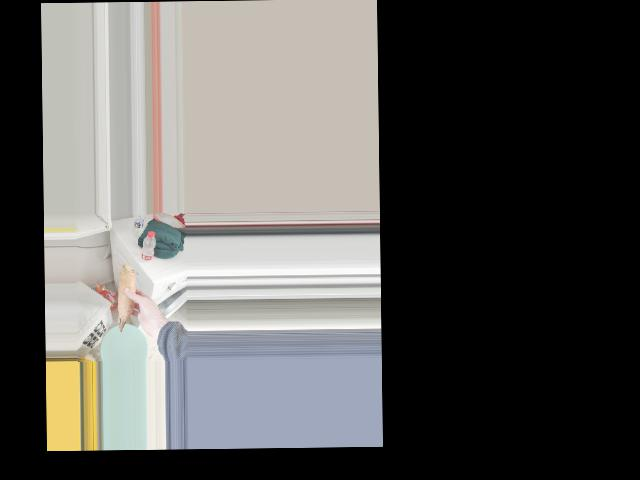sweet_potato: (112, 261, 140, 331)
